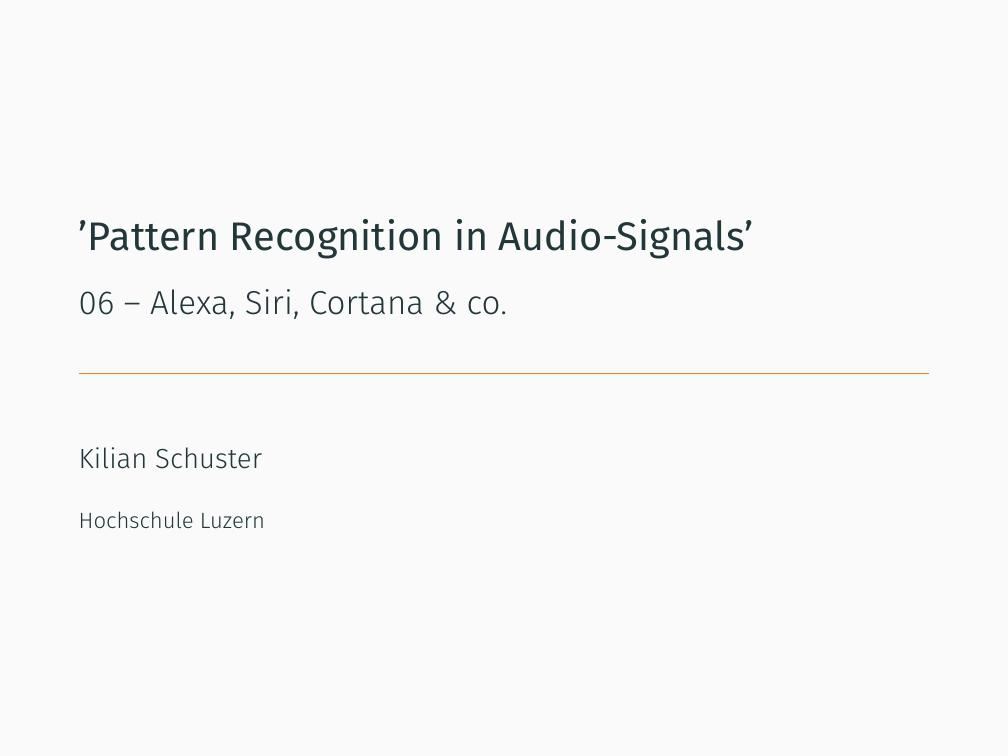Title: (71, 215, 761, 273)
